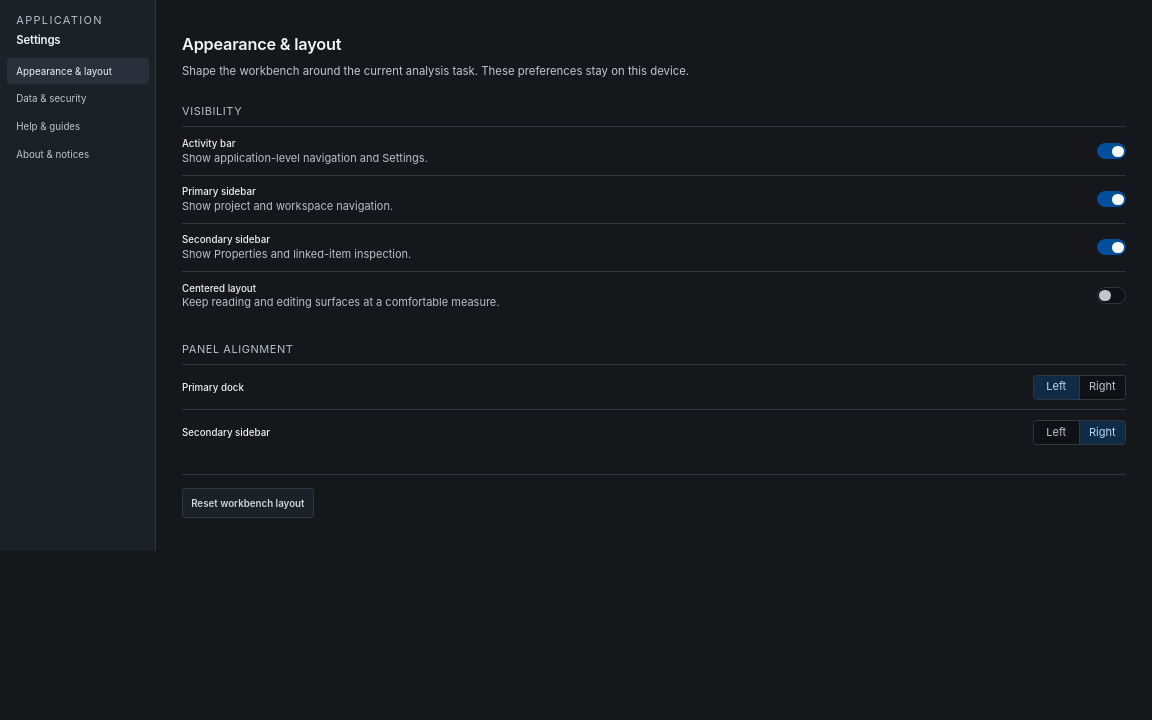
Test case: SettingsWorkspace › provides offline help for document-native reports
Click the tab "Help & guides" at coordinates (78, 126), box [6,113,148,139]
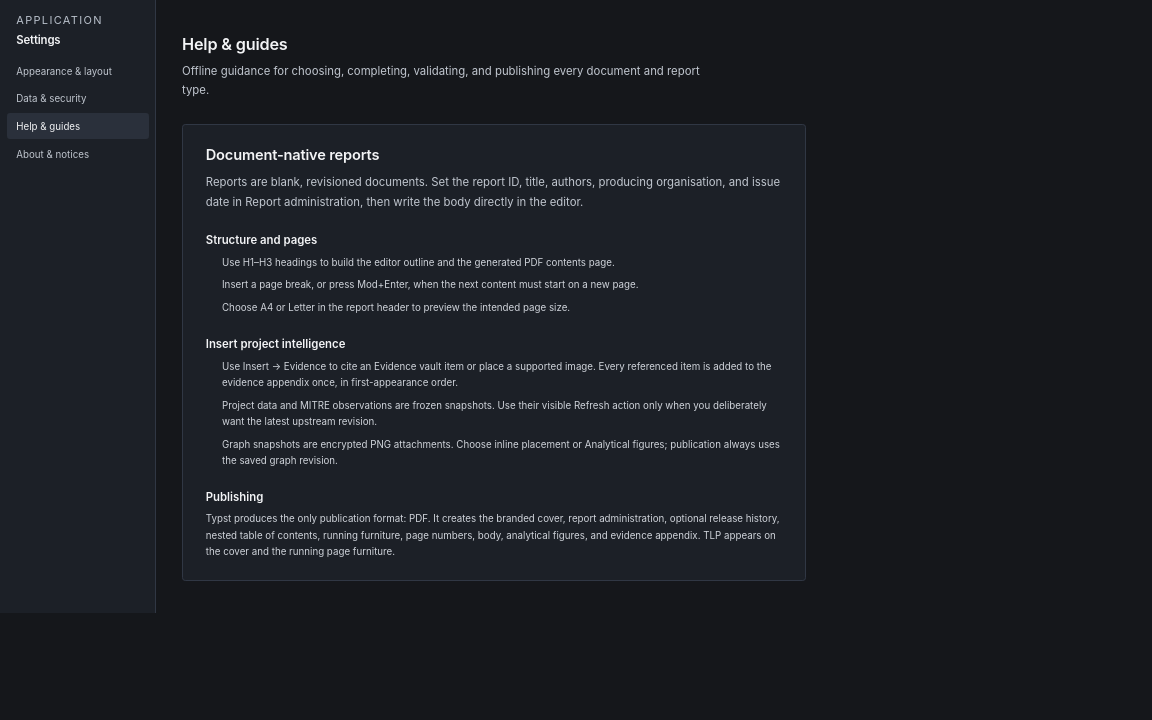
Check: the heading "Document-native reports" is shown, box [206,146,379,164]
